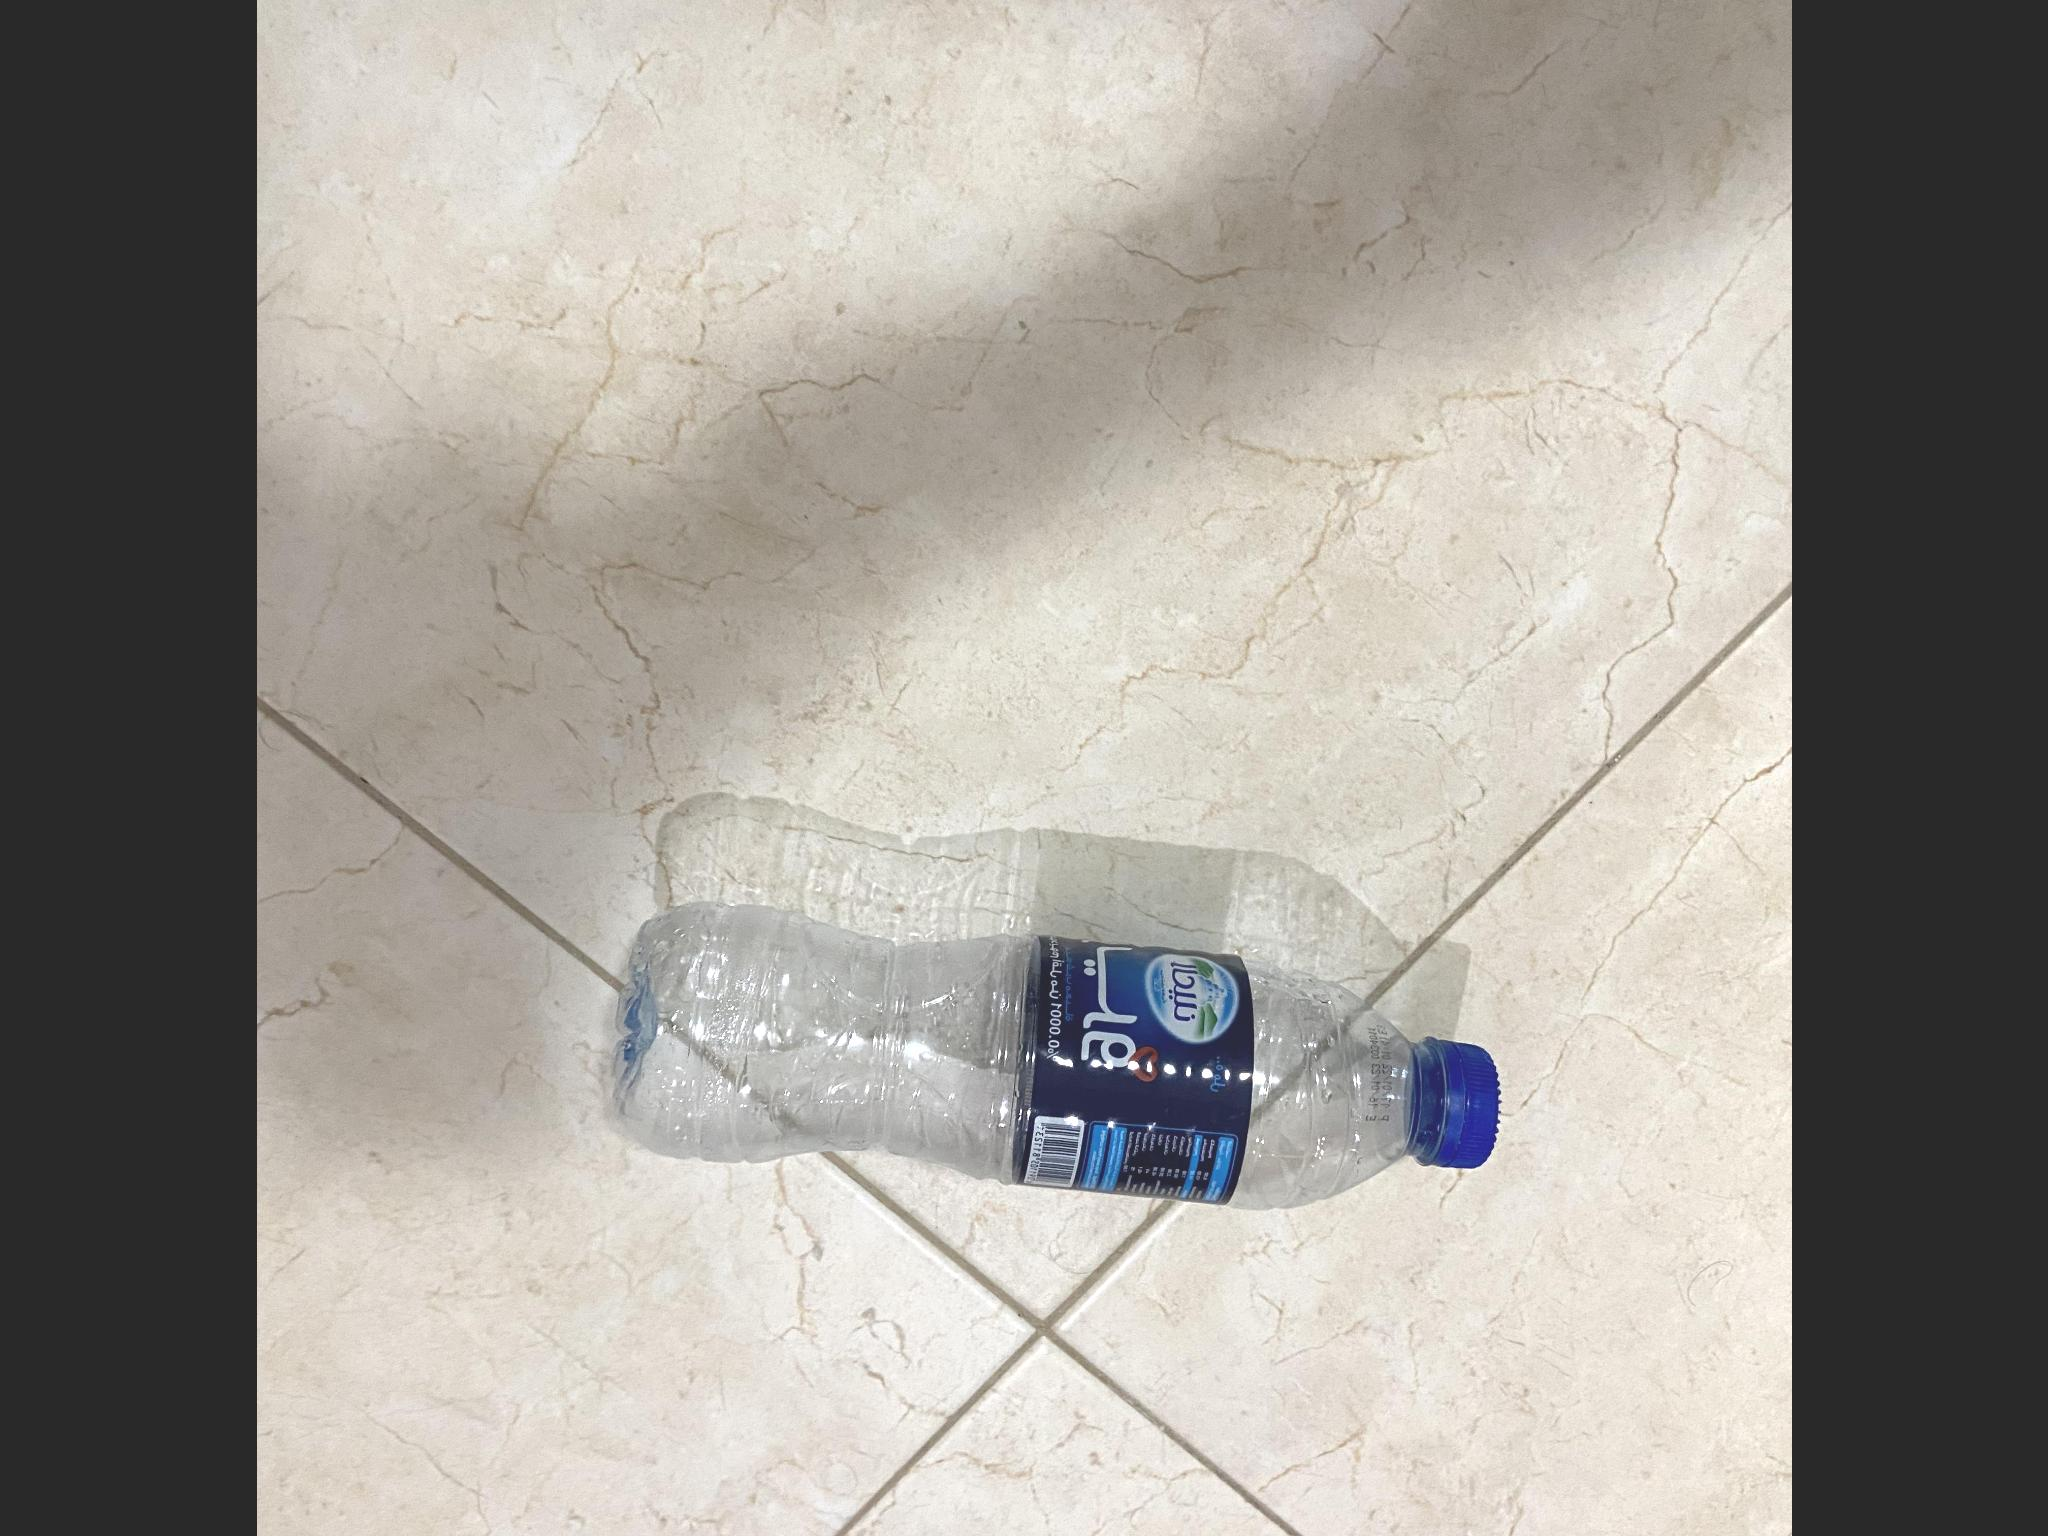bottle: (616, 884, 1519, 1226)
